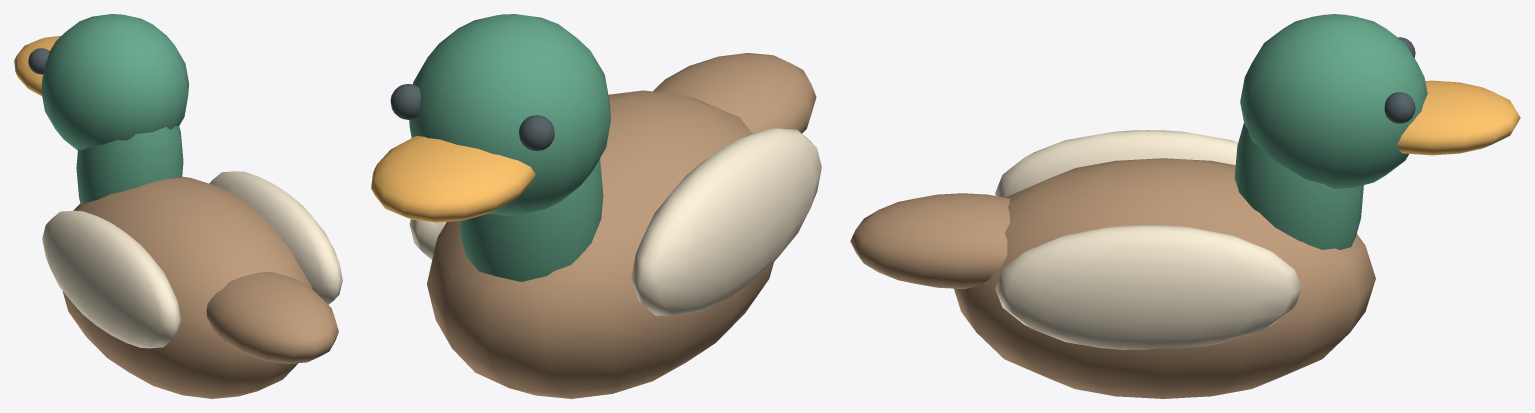
Rendered from duck.glb.
The picture shows the model from 3 angles, left to right: view 1: azimuth 30°, elevation 25°; view 2: azimuth 150°, elevation 25°; view 3: azimuth 270°, elevation 25°; orthographic projection. The views are drawn at different scales.
Visible parts, largest first — view 1: duck body, duck head, duck wing.001, duck tail, duck wing, duck neck, duck bill, duck eye.001; view 2: duck body, duck head, duck wing.001, duck bill, duck neck, duck tail, duck eye.001, duck eye, duck wing; view 3: duck body, duck wing, duck head, duck tail, duck neck, duck wing.001, duck bill, duck eye.
Boxes of the visible parts, bbox=[...] form: duck body: bbox=[62, 176, 311, 398]; duck head: bbox=[41, 14, 188, 150]; duck wing.001: bbox=[42, 210, 181, 348]; duck tail: bbox=[206, 271, 338, 363]; duck wing: bbox=[209, 171, 342, 304]; duck neck: bbox=[76, 126, 183, 204]; duck bill: bbox=[14, 35, 61, 95]; duck eye.001: bbox=[28, 48, 49, 74]; duck body: bbox=[427, 90, 773, 398]; duck head: bbox=[409, 14, 610, 215]; duck wing.001: bbox=[631, 128, 821, 315]; duck bill: bbox=[371, 135, 535, 222]; duck neck: bbox=[459, 158, 603, 281]; duck tail: bbox=[653, 53, 816, 133]; duck eye.001: bbox=[519, 115, 554, 151]; duck eye: bbox=[390, 84, 420, 119]; duck wing: bbox=[409, 219, 446, 259]; duck body: bbox=[954, 158, 1375, 398]; duck wing: bbox=[995, 225, 1301, 349]; duck head: bbox=[1240, 14, 1427, 188]; duck tail: bbox=[850, 193, 1009, 288]; duck neck: bbox=[1234, 123, 1363, 249]; duck wing.001: bbox=[995, 130, 1237, 197]; duck bill: bbox=[1397, 80, 1520, 155]; duck eye: bbox=[1384, 92, 1415, 123].
Size of the model in its own units: 0.51 by 0.68 by 1.14.
